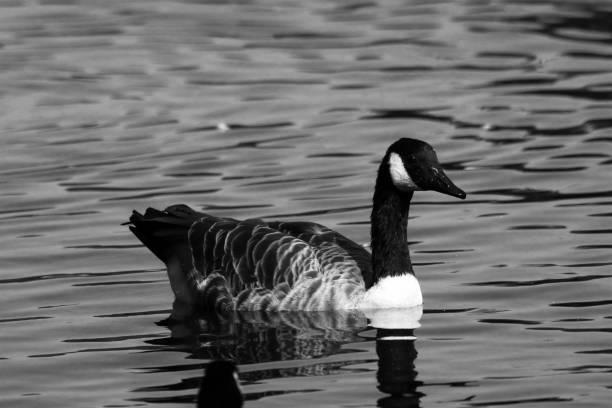Canadian-Goose: (131, 137, 468, 321)
